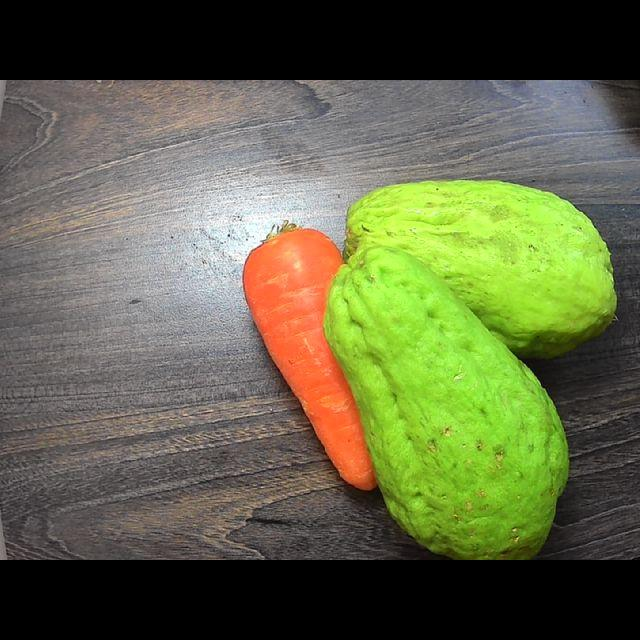chayote: (325, 246, 568, 559), (345, 180, 616, 358)
zanahoria: (243, 221, 375, 489)
